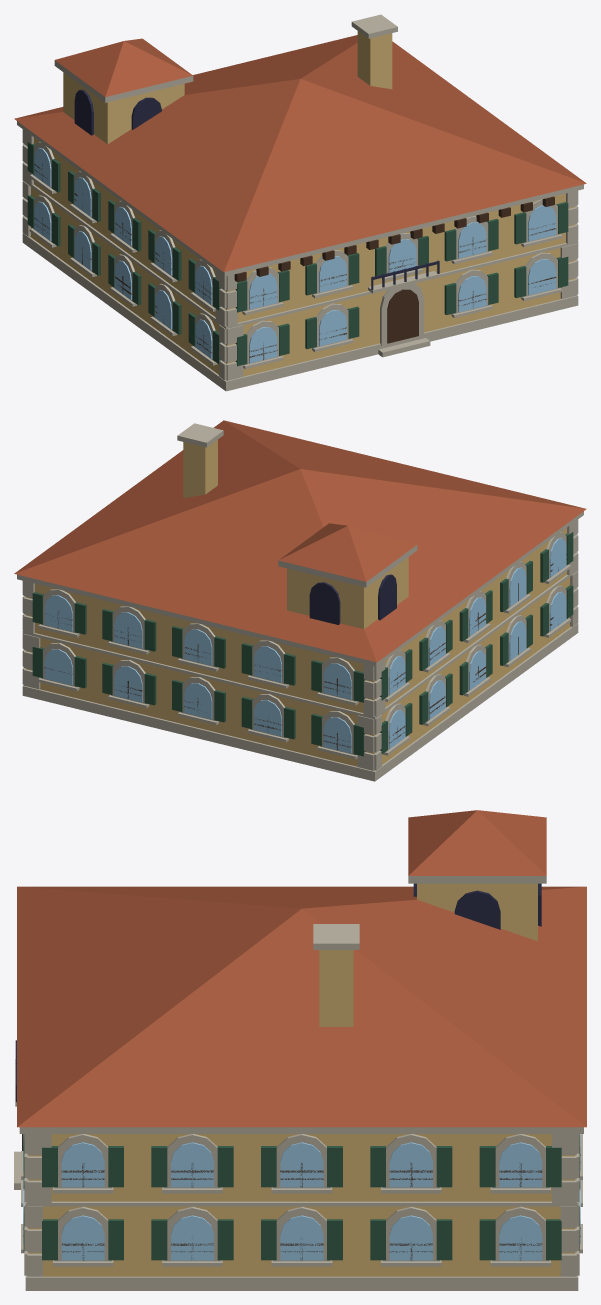
Rendered from house-2x2-2f-tuscan-a.glb.
The picture shows the model from 3 angles, top to bottom: view 1: azimuth 30°, elevation 25°; view 2: azimuth 150°, elevation 25°; view 3: azimuth 270°, elevation 25°; orthographic projection. The views are drawn at different scales.
Parts seen in each view (by area): view 1: house-2x2-2f-tuscan-a; view 2: house-2x2-2f-tuscan-a; view 3: house-2x2-2f-tuscan-a.
Boxes of the visible parts, left/top/right/bottom form: house-2x2-2f-tuscan-a: left=14, top=14, right=586, bottom=391; house-2x2-2f-tuscan-a: left=14, top=420, right=586, bottom=781; house-2x2-2f-tuscan-a: left=14, top=810, right=586, bottom=1290.
Bounding box in the file's own units: 1.98 × 1.14 × 1.99.
Materials: 1 (1 with a texture image).
